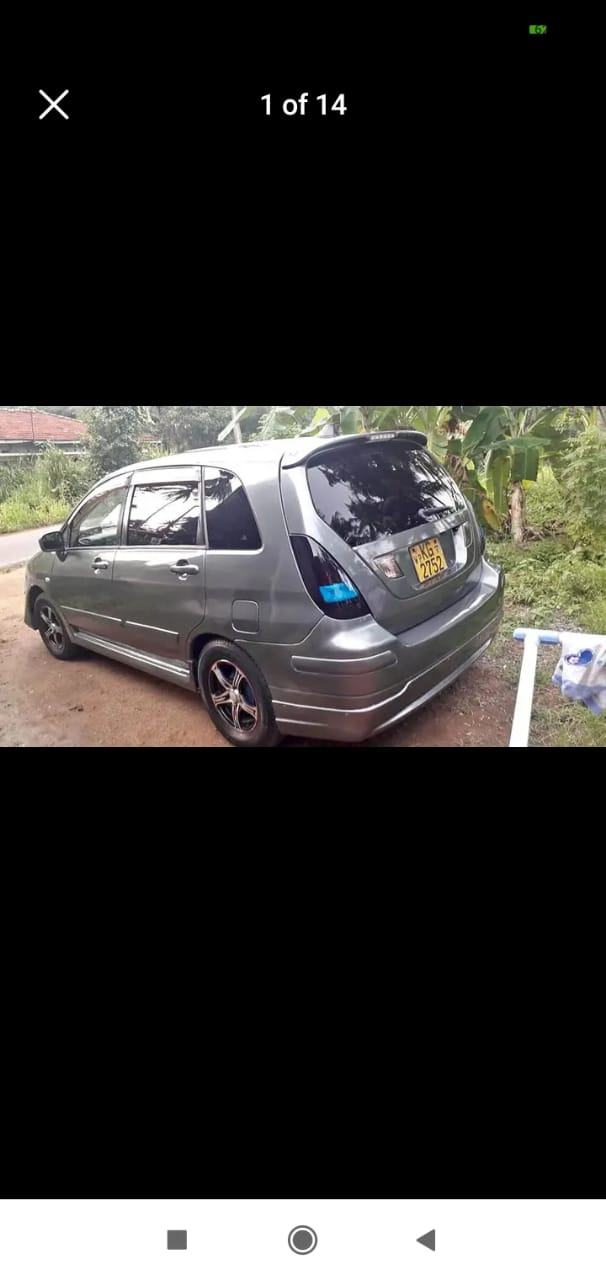number_plate: (404, 535, 453, 574)
